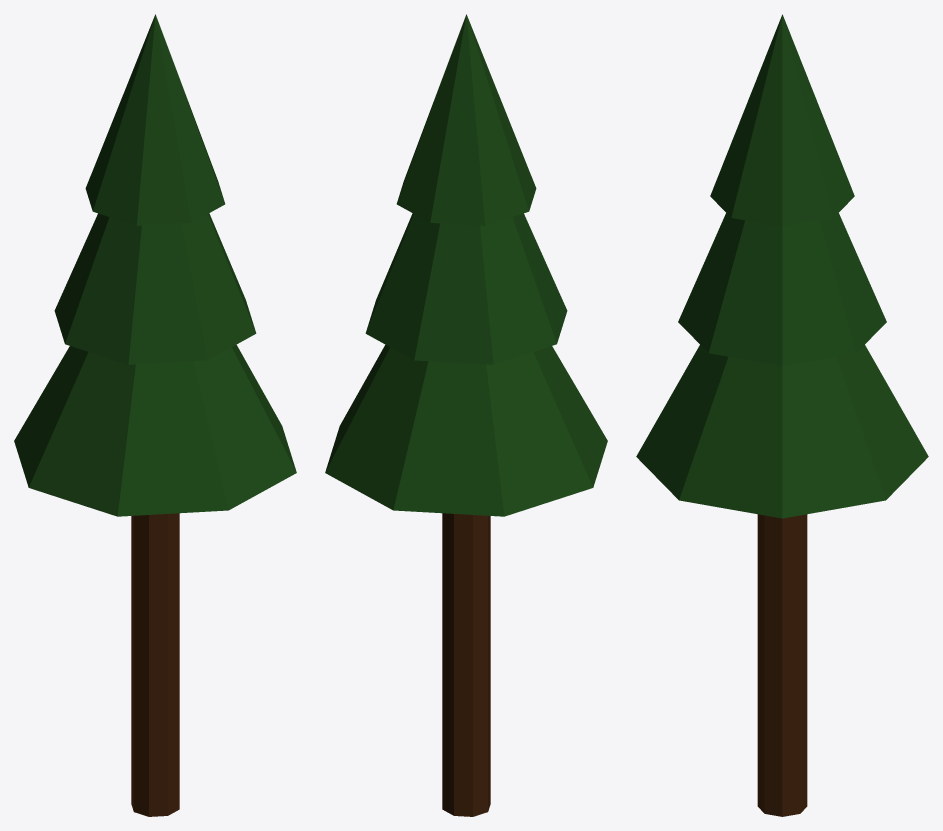
File: tree.glb
3 views of the same model, side by side, from view 1: azimuth 30°, elevation 25°; view 2: azimuth 150°, elevation 25°; view 3: azimuth 270°, elevation 25° (orthographic).
Visible parts, largest first — view 1: Cone.002, Cone.001, Cone, Cylinder; view 2: Cone.002, Cone.001, Cone, Cylinder; view 3: Cone.002, Cone.001, Cone, Cylinder.
Part boxes in pixels (x1,y1,x2,y2): Cone.002: (14,344,296,516); Cone.001: (54,213,256,364); Cone: (85,14,225,225); Cylinder: (131,513,179,816); Cone.002: (325,344,607,516); Cone.001: (365,213,567,364); Cone: (396,14,536,225); Cylinder: (442,513,490,816); Cone.002: (636,345,928,518); Cone.001: (678,213,886,365); Cone: (710,14,854,226); Cylinder: (757,514,807,816).
Bounding box in the file's own units: 5.86 × 17.5 × 5.86.
